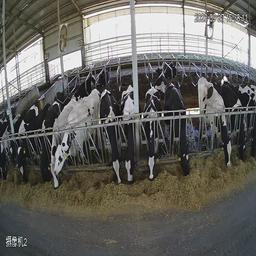cow: (59, 78, 103, 207), (197, 75, 234, 177), (94, 88, 123, 202), (220, 63, 250, 173), (166, 79, 193, 192), (45, 79, 69, 201), (117, 85, 141, 192), (13, 91, 39, 186), (34, 86, 54, 187), (144, 83, 162, 193), (75, 62, 102, 90), (149, 63, 170, 98)
